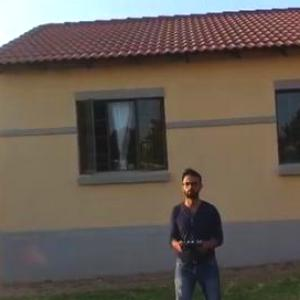follow: (164, 162, 233, 299)
